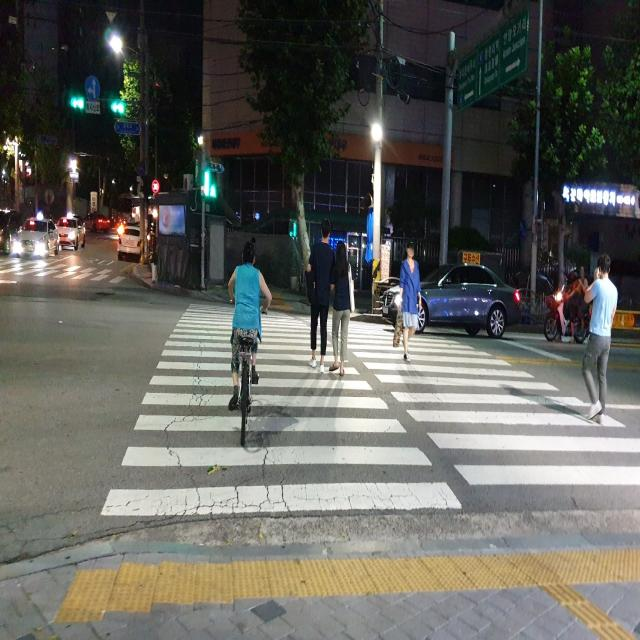횡단보도: (100, 304, 640, 516)
